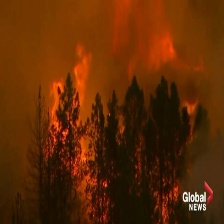fire: (47, 58, 102, 186), (116, 2, 177, 72)
smoke: (3, 8, 99, 90)
